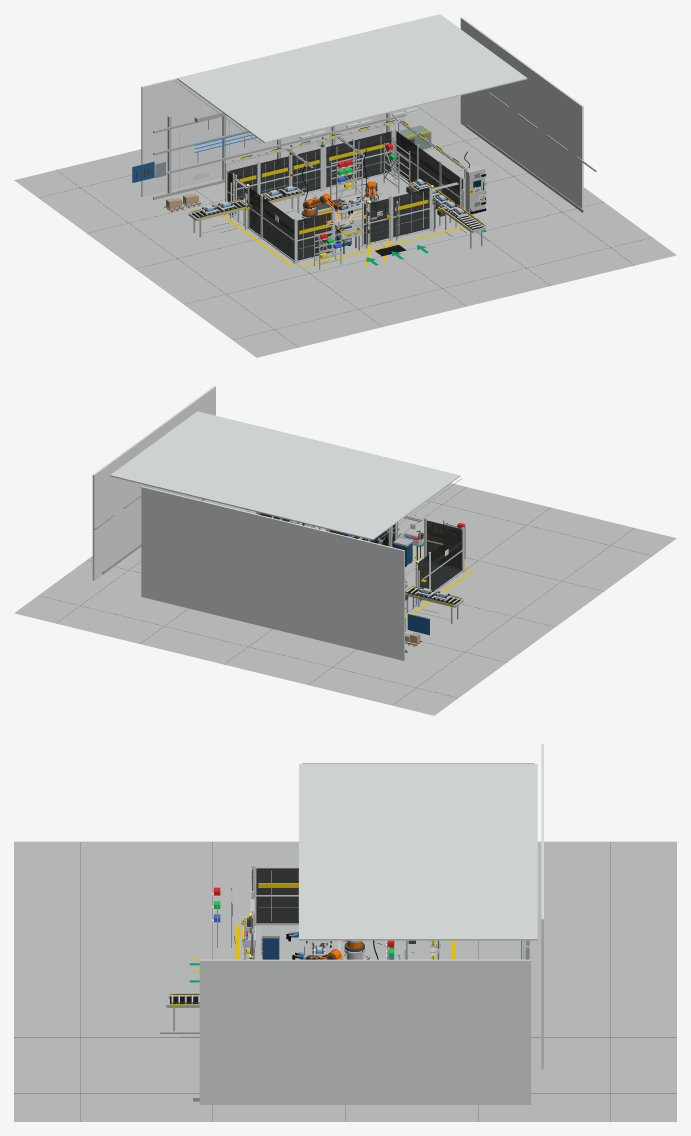
The model's file is robotic-arm-assembly-cell.glb.
3 views of the same model, one above another, from view 1: azimuth 30°, elevation 25°; view 2: azimuth 150°, elevation 25°; view 3: azimuth 270°, elevation 25° (orthographic). The views are drawn at different scales.
Parts seen in each view (by area): view 1: floor_concrete, distant_factory_ceiling_soft_panel_field, distant_factory_right_wall_hint, distant_factory_back_wall, fence_panel_N_4, fence_panel_S_between_gate_and_output, fence_panel_W_1, fence_panel_S_left_remainder_to_pass_through, fence_panel_N_3, fence_panel_N_2, access_gate_main, control_cabinet_main (+11 smaller); view 2: floor_concrete, distant_factory_back_wall, distant_factory_ceiling_soft_panel_field, distant_factory_right_wall_hint, fence_panel_W_1, fence_panel_S_left_remainder_to_pass_through, input_conveyor_external_feed; view 3: floor_concrete, distant_factory_right_wall_hint, distant_factory_ceiling_soft_panel_field, fence_panel_W_1, distant_factory_back_wall, tool_cabinet_main.
Boxes of the visible parts, <box> form: floor_concrete: <box>14,96,676,357</box>; distant_factory_ceiling_soft_panel_field: <box>177,14,527,143</box>; distant_factory_right_wall_hint: <box>460,17,583,209</box>; distant_factory_back_wall: <box>141,22,404,197</box>; fence_panel_N_4: <box>323,129,395,189</box>; fence_panel_S_between_gate_and_output: <box>392,186,431,238</box>; fence_panel_W_1: <box>261,195,294,261</box>; fence_panel_S_left_remainder_to_pass_through: <box>296,210,333,262</box>; fence_panel_N_3: <box>291,147,321,193</box>; fence_panel_N_2: <box>260,154,289,193</box>; access_gate_main: <box>368,196,390,244</box>; control_cabinet_main: <box>465,165,486,214</box>; floor_concrete: <box>14,483,676,715</box>; distant_factory_back_wall: <box>141,486,404,660</box>; distant_factory_ceiling_soft_panel_field: <box>110,411,460,540</box>; distant_factory_right_wall_hint: <box>92,386,215,580</box>; fence_panel_W_1: <box>430,528,463,590</box>; fence_panel_S_left_remainder_to_pass_through: <box>425,518,462,557</box>; input_conveyor_external_feed: <box>405,586,463,623</box>; floor_concrete: <box>14,841,676,1121</box>; distant_factory_right_wall_hint: <box>199,959,530,1104</box>; distant_factory_ceiling_soft_panel_field: <box>299,764,537,940</box>; fence_panel_W_1: <box>253,866,298,925</box>; distant_factory_back_wall: <box>541,744,543,1069</box>; tool_cabinet_main: <box>261,927,279,959</box>.
Bounding box in the file's own units: 20 × 5.13 × 20.
